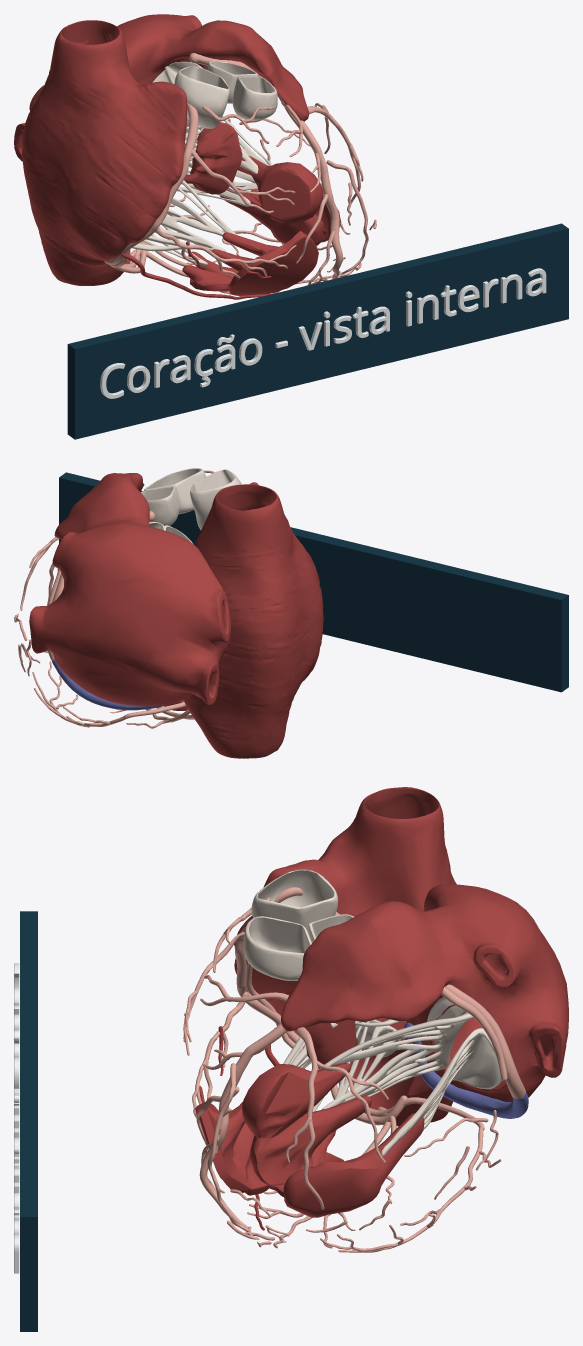
The model's file is nivel-2.glb.
3 views of the same model, one above another, from view 1: azimuth 30°, elevation 25°; view 2: azimuth 150°, elevation 25°; view 3: azimuth 270°, elevation 25° (orthographic). The views are drawn at different scales.
Parts seen in each view (by area): view 1: placa_solida, ciclo6_parede_ad, ciclo5_parede_ae, texto_em_relevo, ciclo1_musculo_papilar_anterolateral_ve, ciclo2_musculo_papilar_anterior_vd, ciclo4_musculo_papilar_septal_vd, ciclo9_cuspide_anterior_tricuspide, ciclo16_cuspide_anterior_direita_pulmonar, ciclo15_cuspide_anterior_esquerda_pulmonar, ciclo19_tronco_descendente_anterior, ciclo20_tronco_coronaria_direita (+6 smaller); view 2: ciclo5_parede_ae, placa_solida, ciclo6_parede_ad, ciclo16_cuspide_anterior_direita_pulmonar, ciclo15_cuspide_anterior_esquerda_pulmonar, ciclo17_cuspide_posterior_pulmonar, ciclo21_seio_coronario; view 3: ciclo5_parede_ae, ciclo6_parede_ad, ciclo1_musculo_papilar_anterolateral_ve, placa_solida, ciclo0_miocardio_ve, ciclo7_cuspide_anterior_mitral, ciclo15_cuspide_anterior_esquerda_pulmonar, ciclo16_cuspide_anterior_direita_pulmonar, ciclo8_cuspide_posterior_mitral, ciclo2_musculo_papilar_anterior_vd, ciclo20_tronco_coronaria_direita, texto_em_relevo (+9 smaller).
Part boxes in pixels (<box>): placa_solida: <box>67,223,568,439</box>; ciclo6_parede_ad: <box>22,20,187,285</box>; ciclo5_parede_ae: <box>14,14,309,161</box>; texto_em_relevo: <box>100,268,546,398</box>; ciclo1_musculo_papilar_anterolateral_ve: <box>220,156,323,245</box>; ciclo2_musculo_papilar_anterior_vd: <box>211,231,318,295</box>; ciclo4_musculo_papilar_septal_vd: <box>184,122,242,194</box>; ciclo9_cuspide_anterior_tricuspide: <box>132,180,237,251</box>; ciclo16_cuspide_anterior_direita_pulmonar: <box>174,66,229,128</box>; ciclo15_cuspide_anterior_esquerda_pulmonar: <box>232,76,277,120</box>; ciclo19_tronco_descendente_anterior: <box>220,60,342,279</box>; ciclo20_tronco_coronaria_direita: <box>104,102,198,267</box>; ciclo5_parede_ae: <box>29,473,230,706</box>; placa_solida: <box>59,472,568,692</box>; ciclo6_parede_ad: <box>183,482,323,758</box>; ciclo16_cuspide_anterior_direita_pulmonar: <box>190,469,241,529</box>; ciclo15_cuspide_anterior_esquerda_pulmonar: <box>144,468,205,514</box>; ciclo17_cuspide_posterior_pulmonar: <box>141,486,179,525</box>; ciclo21_seio_coronario: <box>52,660,165,710</box>; ciclo5_parede_ae: <box>281,884,568,1102</box>; ciclo6_parede_ad: <box>234,787,456,1126</box>; ciclo1_musculo_papilar_anterolateral_ve: <box>242,1063,371,1185</box>; placa_solida: <box>20,911,37,1331</box>; ciclo0_miocardio_ve: <box>283,1113,424,1217</box>; ciclo7_cuspide_anterior_mitral: <box>319,997,473,1109</box>; ciclo15_cuspide_anterior_esquerda_pulmonar: <box>243,916,311,980</box>; ciclo16_cuspide_anterior_direita_pulmonar: <box>251,869,338,934</box>; ciclo8_cuspide_posterior_mitral: <box>381,1028,502,1155</box>; ciclo2_musculo_papilar_anterior_vd: <box>195,1102,269,1195</box>; ciclo20_tronco_coronaria_direita: <box>235,887,484,1129</box>; texto_em_relevo: <box>14,963,19,1273</box>.
Size of the model in its own units: 0.2 by 0.1021 by 0.1534.
